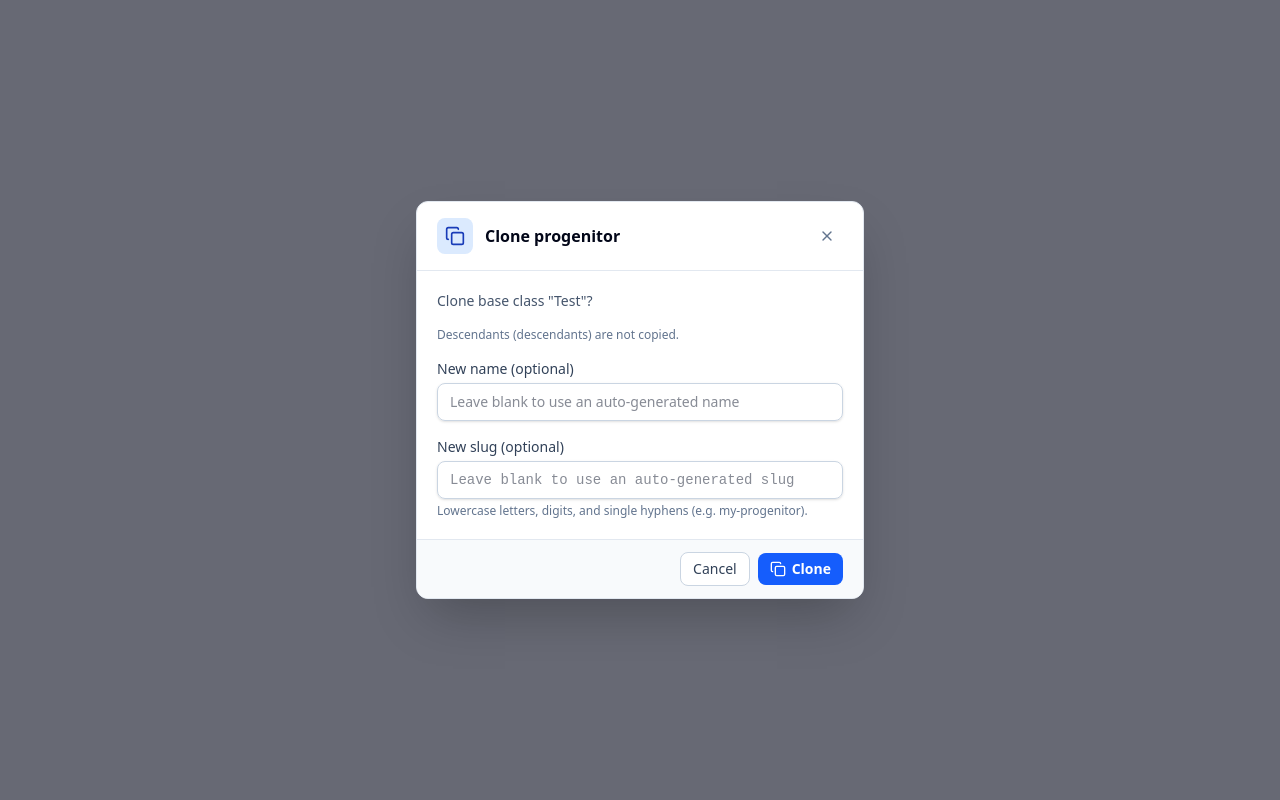
Scenario: CloneDialog › disables confirm button when slug is invalid kebab-case
The width and height of the screenshot is (1280, 800).
Step 1. Type "Invalid Slug" into the field with test id "clone-dialog-slug" → coordinates (640, 480), box [437,461,843,499]
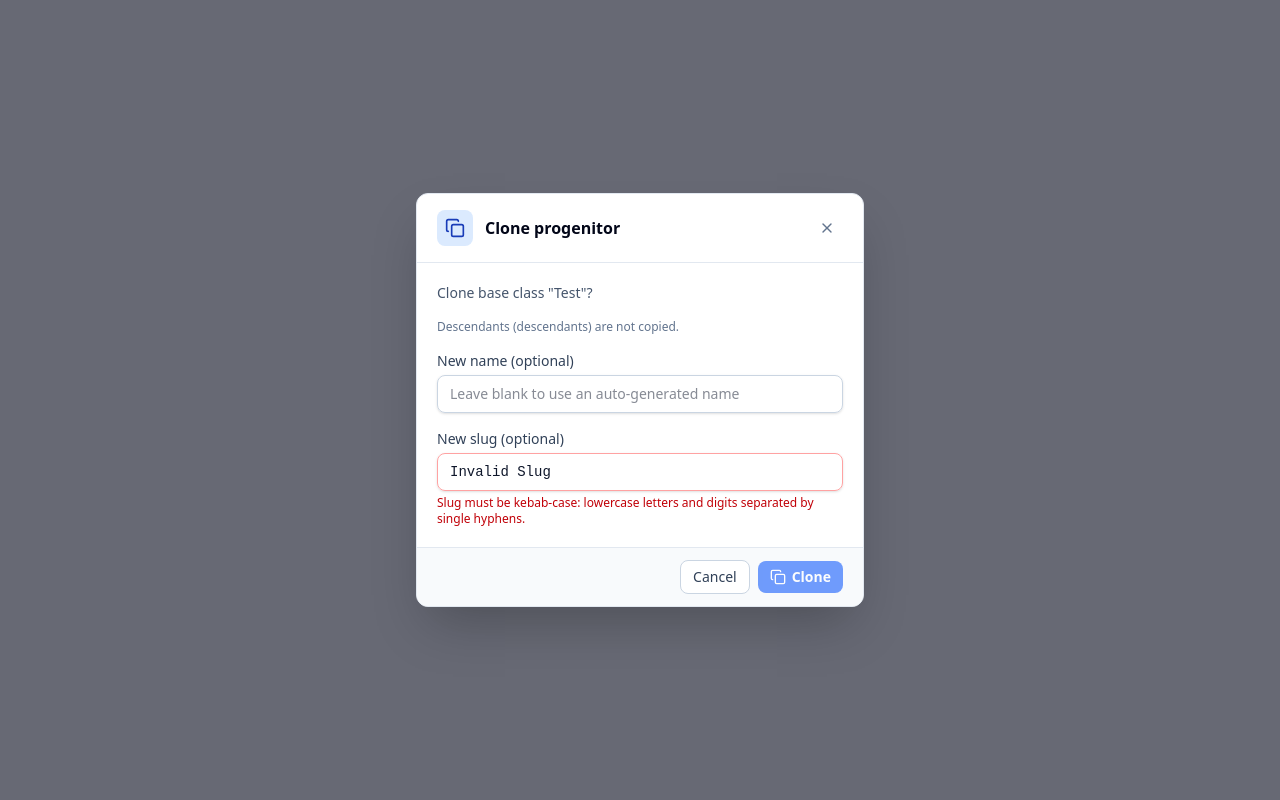
Expected: the message with test id "clone-dialog-slug-error" is shown, [437,495,843,527]
Expected: the button with test id "clone-dialog-confirm" is disabled, [758,561,843,593]
